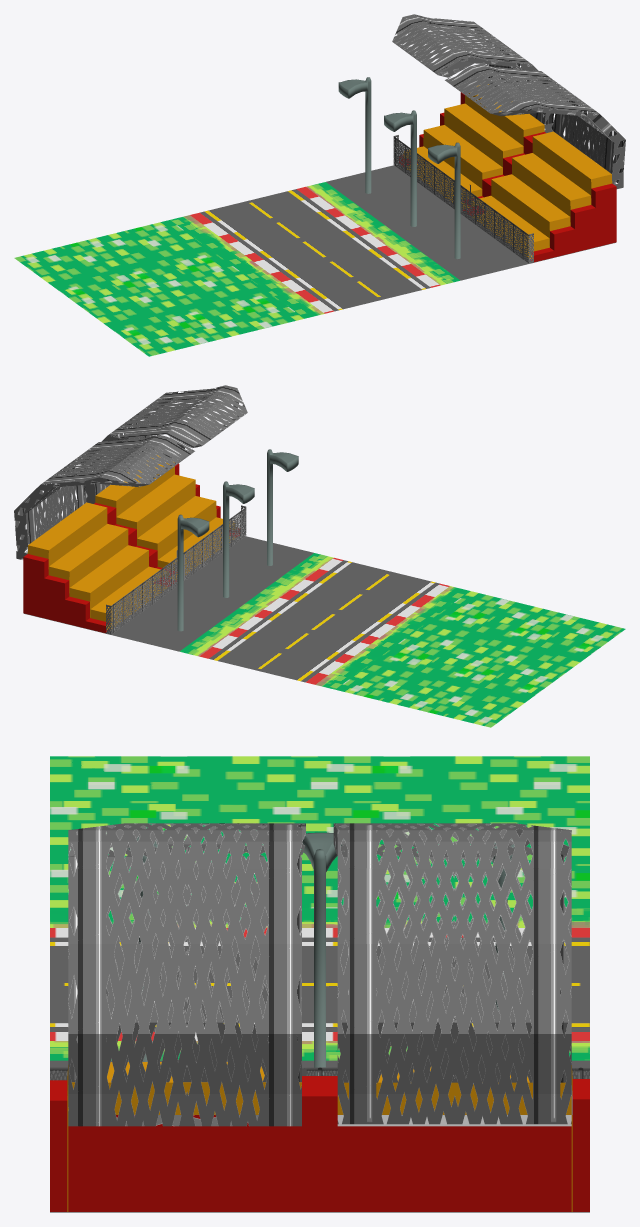
The model's file is Mapa.fbx.
3 renders of one model, top to bottom at view 1: azimuth 30°, elevation 25°; view 2: azimuth 150°, elevation 25°; view 3: azimuth 270°, elevation 25°, orthographic. The views are drawn at different scales.
Parts seen in each view (by area): view 1: Asientos, Plane.002, Plane, Plane.001, Cylinder; view 2: Asientos, Plane.002, Plane, Plane.001, Cylinder; view 3: Asientos, Plane.002, Plane, Cylinder, Plane.001.
Boxes of the visible parts, bbox=[...] form: Asientos: bbox=[392, 14, 625, 263]; Plane.002: bbox=[14, 220, 304, 356]; Plane: bbox=[170, 182, 459, 318]; Plane.001: bbox=[326, 164, 615, 280]; Cylinder: bbox=[338, 77, 460, 259]; Asientos: bbox=[14, 385, 247, 634]; Plane.002: bbox=[335, 591, 625, 727]; Plane: bbox=[180, 553, 469, 689]; Plane.001: bbox=[24, 536, 313, 651]; Cylinder: bbox=[177, 449, 298, 631]; Asientos: bbox=[50, 823, 589, 1211]; Plane.002: bbox=[50, 756, 589, 908]; Plane: bbox=[50, 908, 589, 1060]; Cylinder: bbox=[127, 832, 514, 1075]; Plane.001: bbox=[50, 1060, 589, 1212].
Bounding box in the file's own units: 6180 × 1845 × 3000.
Materials: 8 (3 with a texture image).
